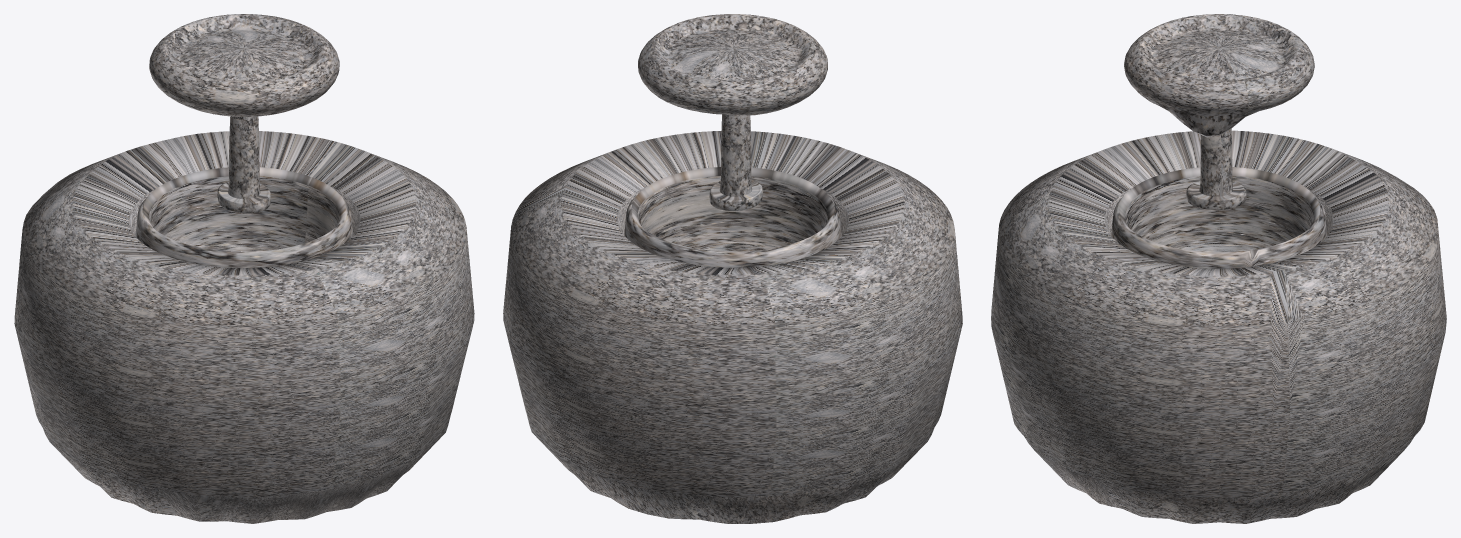
Rendered from uhhhh.fbx.
3 views of the same model, side by side, from view 1: azimuth 30°, elevation 25°; view 2: azimuth 150°, elevation 25°; view 3: azimuth 270°, elevation 25° (orthographic).
Parts seen in each view (by area): view 1: pCylinder52; view 2: pCylinder52; view 3: pCylinder52.
Boxes of the visible parts, x1,y1,x2,y2 form: pCylinder52: (14, 14, 474, 523); pCylinder52: (503, 14, 962, 523); pCylinder52: (991, 14, 1446, 523).
Size of the model in its own units: 33.12 by 33.58 by 32.84.
1 material, 1 textured.
